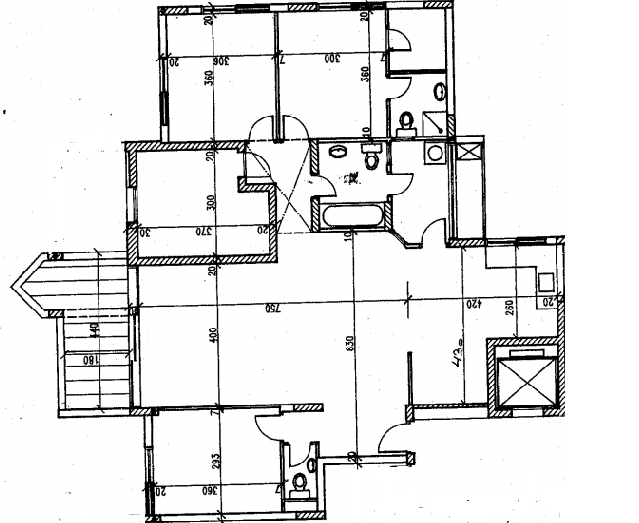door: (374, 421, 410, 454), (251, 112, 283, 141), (277, 114, 309, 143), (385, 26, 417, 55), (383, 72, 415, 101), (382, 170, 414, 199), (308, 173, 340, 202), (418, 217, 450, 246), (252, 412, 284, 441), (286, 439, 318, 468)
wall: (556, 301, 565, 415), (128, 255, 275, 261), (126, 141, 244, 148)
window: (157, 50, 178, 96), (119, 182, 140, 228), (138, 442, 159, 488), (192, 4, 250, 19), (305, 1, 363, 15)
